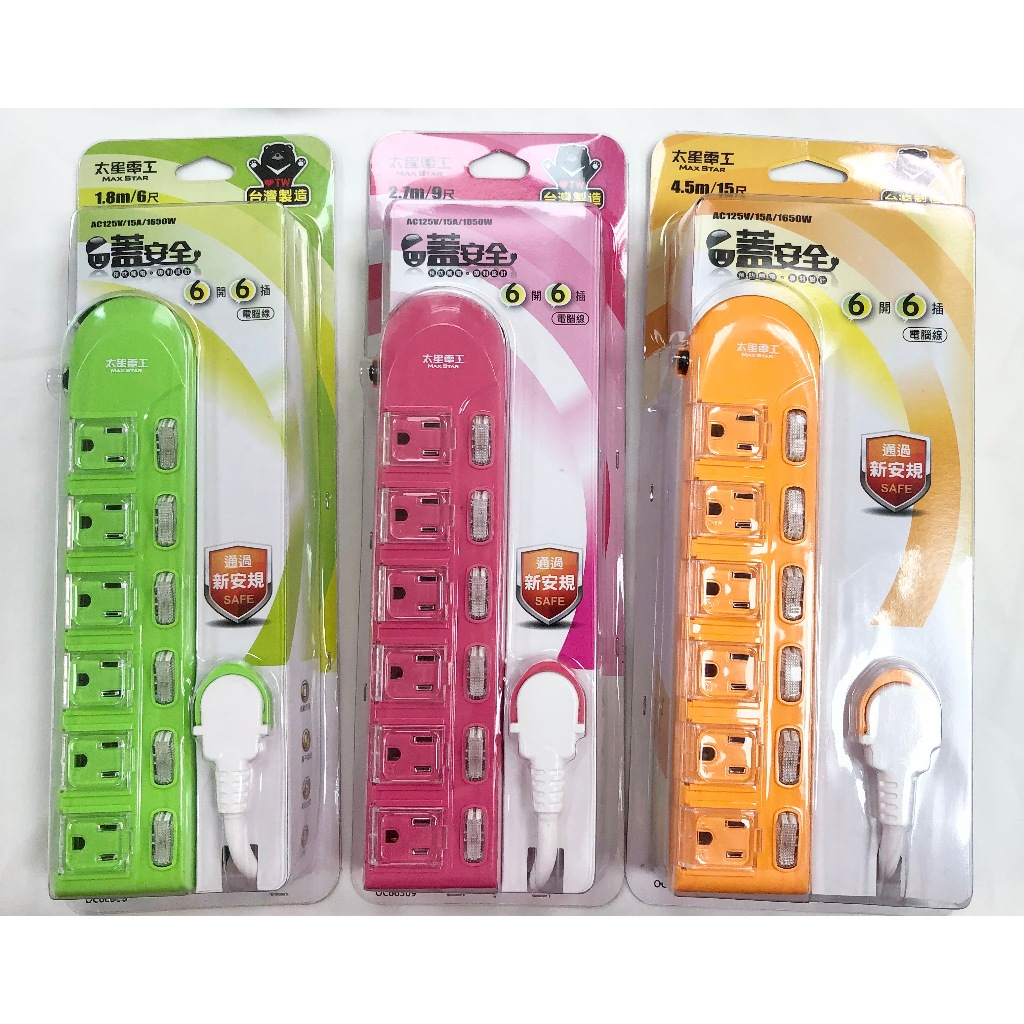socket: (670, 295, 943, 904), (56, 294, 273, 894), (367, 290, 579, 894)
